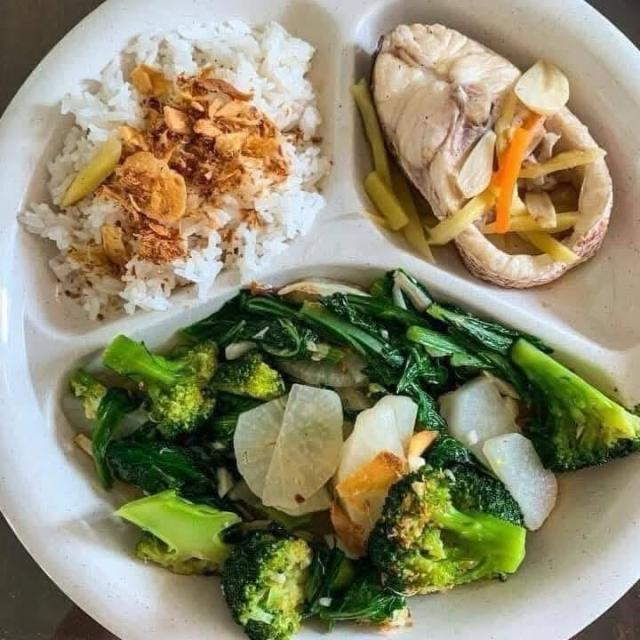Fish: (369, 21, 620, 289)
Rice: (16, 16, 330, 326)
Vegetables: (61, 274, 639, 639)
